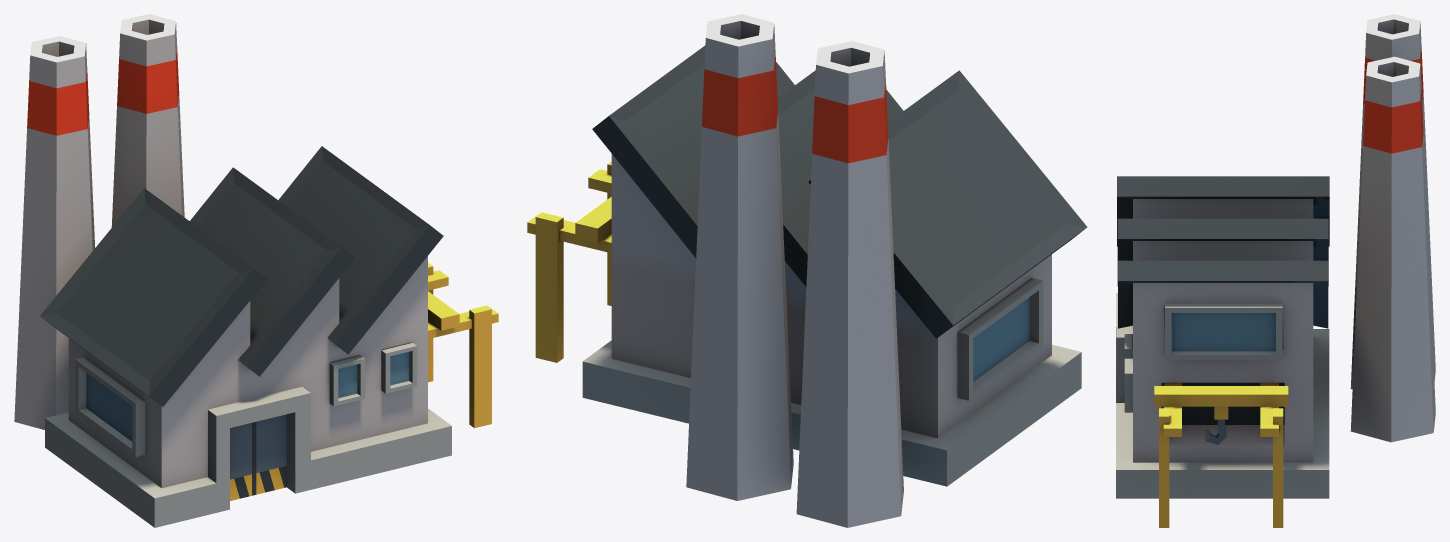
File: Factory.glb
3 renders of one model, left to right at view 1: azimuth 30°, elevation 25°; view 2: azimuth 150°, elevation 25°; view 3: azimuth 270°, elevation 25°, orthographic. The views are drawn at different scales.
Visible parts, largest first — view 1: factory; view 2: factory; view 3: factory.
Part boxes in pixels (<box>): factory: <box>14,14,498,527</box>; factory: <box>527,14,1087,527</box>; factory: <box>1116,14,1435,527</box>.
Bounding box in the file's own units: 1.82 × 1.69 × 1.39.
1 material, 1 textured.
